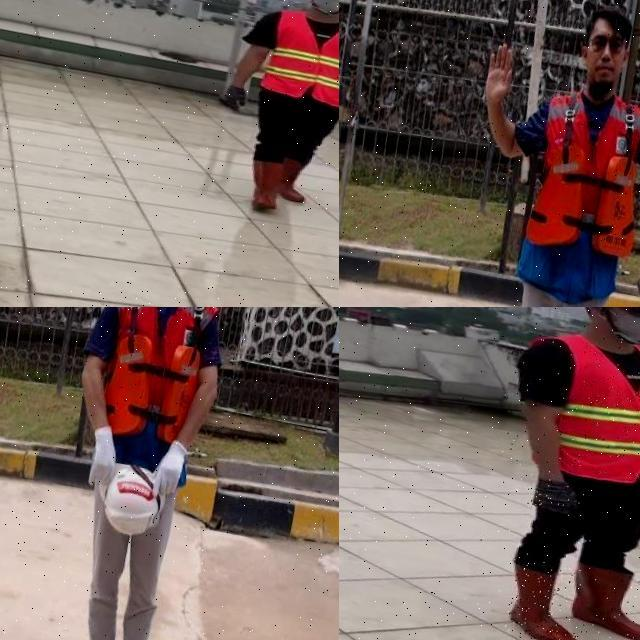boots: (501, 557, 589, 640), (562, 557, 640, 640), (242, 158, 287, 212), (278, 161, 314, 206)
vest: (510, 85, 640, 307), (77, 307, 223, 485), (499, 322, 640, 496), (263, 6, 339, 111)
